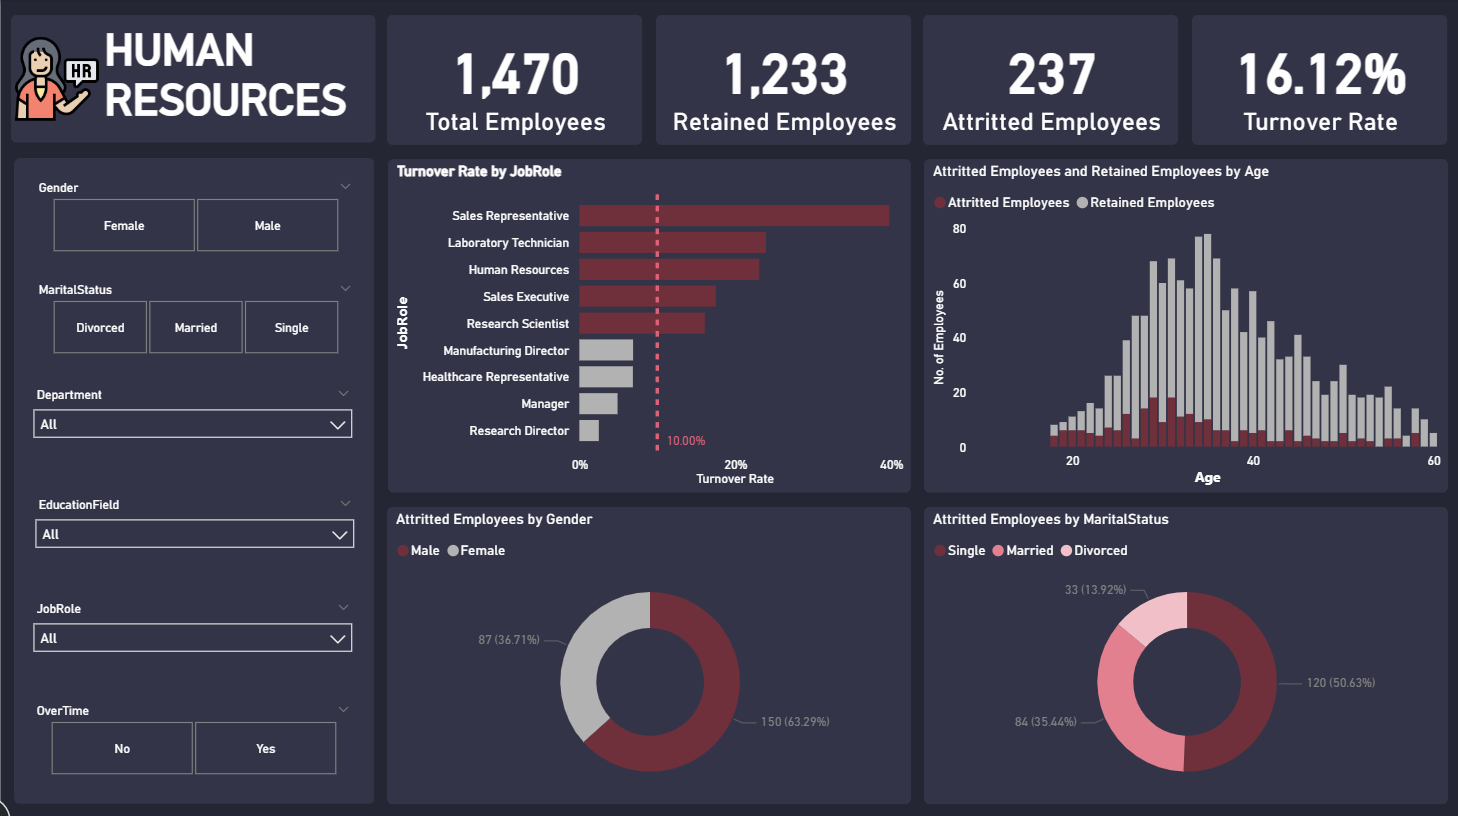

The dashboard page shown, as its layout file describes it:
{"tool":"powerbi","page":{"name":"Page 1","canvas":[1280,720],"ordinal":0},"visuals":[{"type":"textbox","box":[8.9,15,320,112.2],"z":0},{"type":"image","box":[6.1,15,85.6,112.2],"z":1000},{"type":"group","id":"g1","title":"Group 1","box":[338.8,15,931.2,113.8],"z":2000},{"type":"card","fields":{"Values":["Measure_Table.Total Employees"]},"box":[338.8,15,224.1,113.8],"z":2000,"group":"g1"},{"type":"card","fields":{"Values":["Measure_Table.Retained Employees"]},"box":[574.9,15,224.1,113.8],"z":3000,"group":"g1"},{"type":"shape","box":[11.8,140.9,316.4,567.3],"z":3000},{"type":"card","fields":{"Values":["Measure_Table.Attritted Employees"]},"box":[809.8,15,224.1,113.8],"z":4000,"group":"g1"},{"type":"slicer","fields":{"Values":["HR_Analytics.Department"]},"box":[18.8,337.5,300,73.8],"z":4000},{"type":"card","fields":{"Values":["Measure_Table.Employees Turnover Rate"]},"box":[1046,15,224.1,113.8],"z":5000,"group":"g1"},{"type":"slicer","fields":{"Values":["HR_Analytics.EducationField"]},"box":[20,433.8,300,73.8],"z":5000},{"type":"slicer","fields":{"Values":["HR_Analytics.JobRole"]},"box":[18.8,525,300,73.8],"z":6000},{"type":"slicer","fields":{"Values":["HR_Analytics.OverTime"]},"box":[18.8,615,300,73.8],"z":7000},{"type":"slicer","fields":{"Values":["HR_Analytics.Gender"]},"box":[20,155,300,73.8],"z":8000},{"type":"slicer","fields":{"Values":["HR_Analytics.MaritalStatus"]},"box":[20,245,300,73.8],"z":9000},{"type":"barChart","fields":{"Category":["HR_Analytics.JobRole"],"Y":["Measure_Table.Turnover Rate"]},"box":[340,141.2,458.8,292.5],"z":10000},{"type":"columnChart","fields":{"Category":["HR_Analytics.Age"],"Y":["Measure_Table.Attritted Employees","Measure_Table.Retained Employees"]},"box":[810,141.4,460,292.9],"z":11000},{"type":"donutChart","fields":{"Category":["HR_Analytics.Gender"],"Y":["Measure_Table.Attritted Employees"]},"box":[338.6,447.1,460,261.4],"z":12000},{"type":"donutChart","fields":{"Category":["HR_Analytics.MaritalStatus"],"Y":["Measure_Table.Attritted Employees"]},"box":[810,447.1,460,261.4],"z":13000}]}

Visuals, with their boxes in screenshot pixels (x1, y1, x2, y2), scaled from the page's 1280x720 canvas onto the 1458x816 screenshot:
textbox: box=[10, 17, 375, 144]
image: box=[7, 17, 104, 144]
"Group 1" group: box=[386, 17, 1447, 146]
card - Measure_Table.Total Employees: box=[386, 17, 641, 146]
card - Measure_Table.Retained Employees: box=[655, 17, 910, 146]
shape: box=[13, 160, 374, 803]
card - Measure_Table.Attritted Employees: box=[922, 17, 1178, 146]
slicer - HR_Analytics.Department: box=[21, 382, 363, 466]
card - Measure_Table.Employees Turnover Rate: box=[1191, 17, 1447, 146]
slicer - HR_Analytics.EducationField: box=[23, 492, 364, 575]
slicer - HR_Analytics.JobRole: box=[21, 595, 363, 679]
slicer - HR_Analytics.OverTime: box=[21, 697, 363, 781]
slicer - HR_Analytics.Gender: box=[23, 176, 364, 259]
slicer - HR_Analytics.MaritalStatus: box=[23, 278, 364, 361]
barChart - HR_Analytics.JobRole x Measure_Table.Turnover Rate: box=[387, 160, 910, 492]
columnChart - HR_Analytics.Age x Measure_Table.Attritted Employees: box=[923, 160, 1447, 492]
donutChart - HR_Analytics.Gender x Measure_Table.Attritted Employees: box=[386, 507, 910, 803]
donutChart - HR_Analytics.MaritalStatus x Measure_Table.Attritted Employees: box=[923, 507, 1447, 803]
